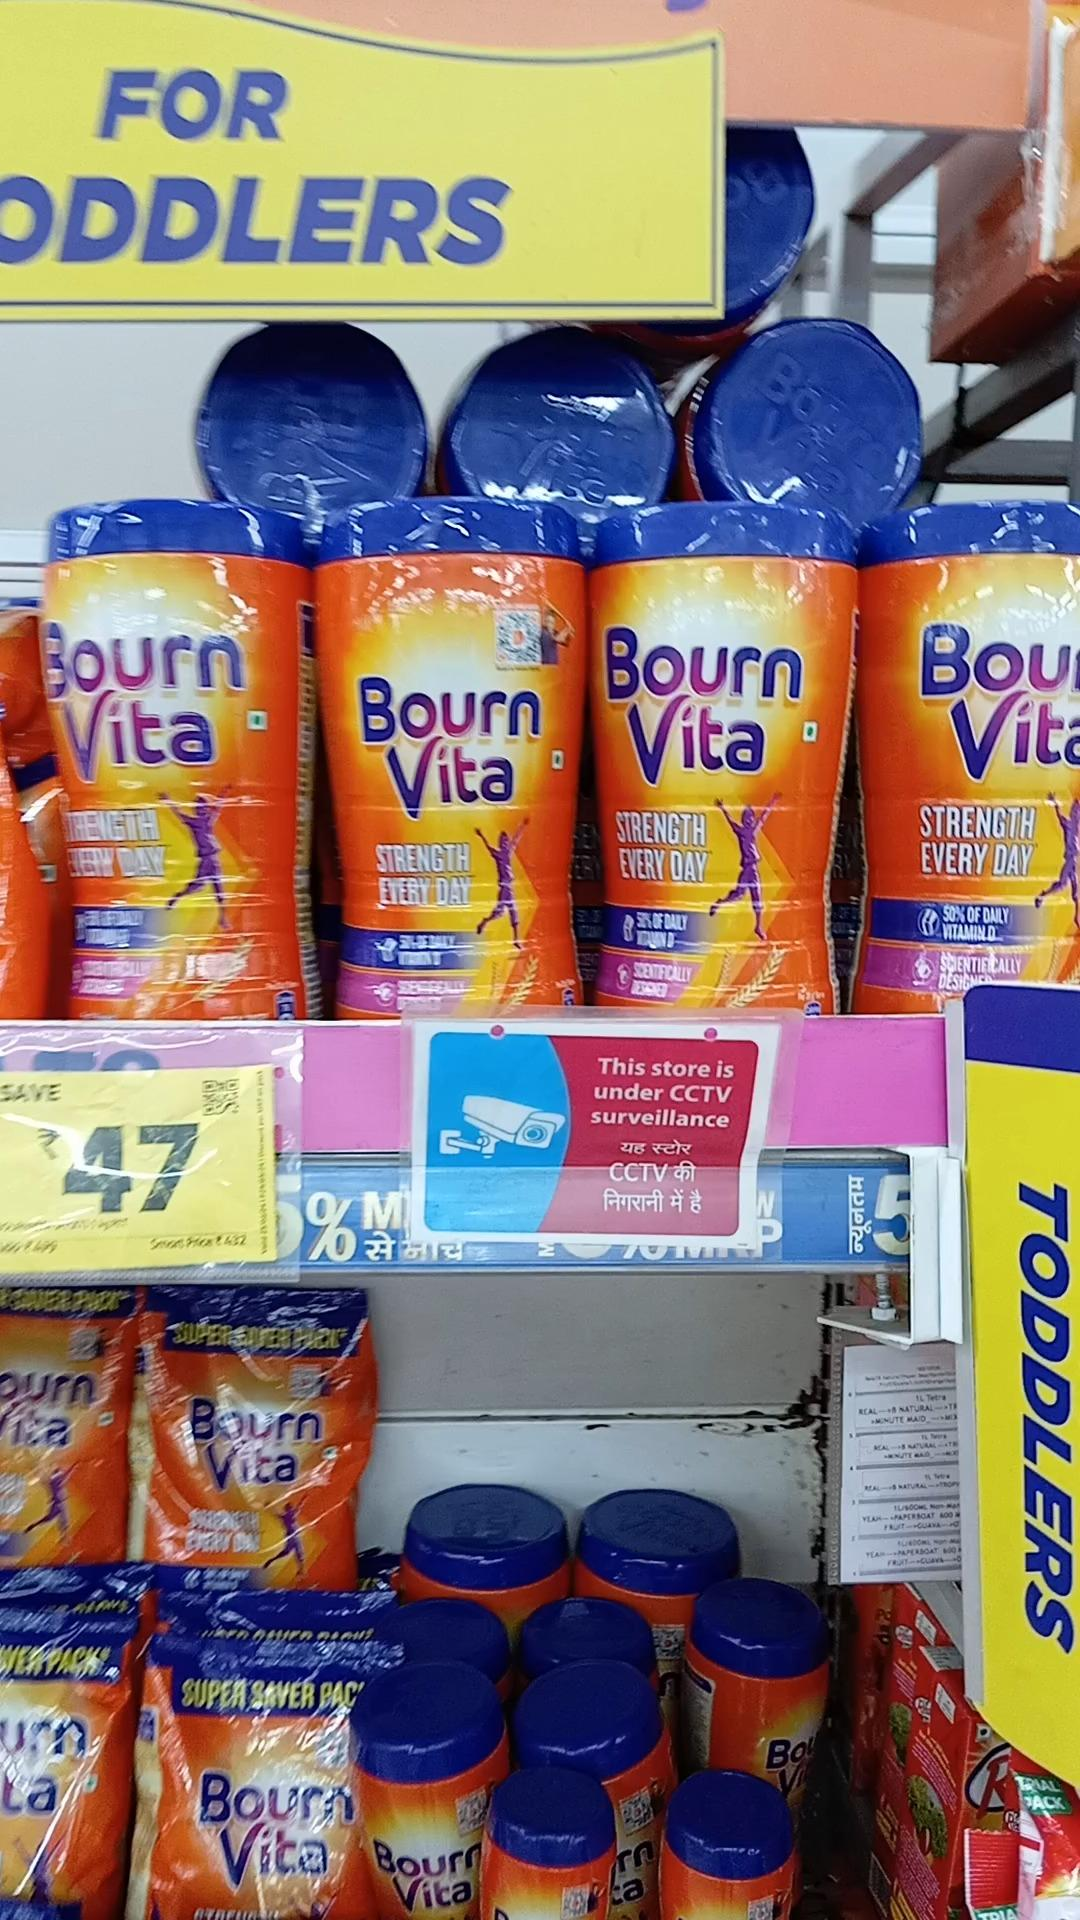BOURN_VITA_1_KG_JAR: (327, 492, 589, 1017), (45, 502, 313, 1010), (603, 497, 840, 1023), (862, 508, 1080, 980)
BOURN_VITA_1_KG_POUCH: (135, 1296, 356, 1575), (145, 1639, 353, 1920)
